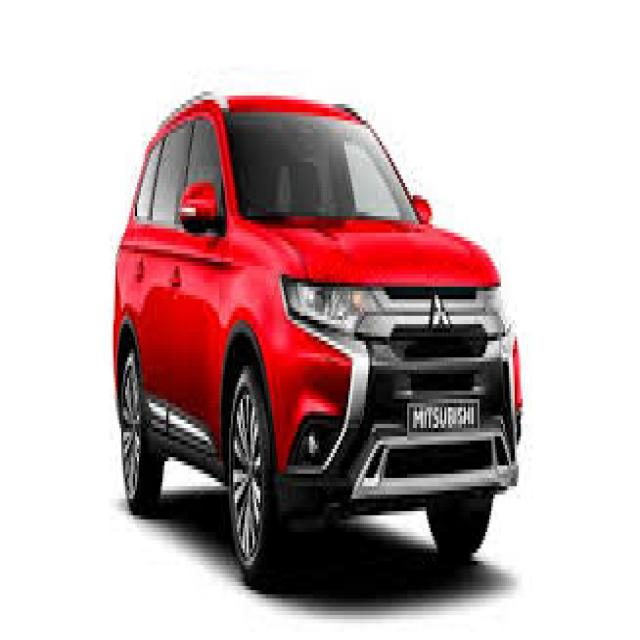SUV: (108, 91, 523, 592)
